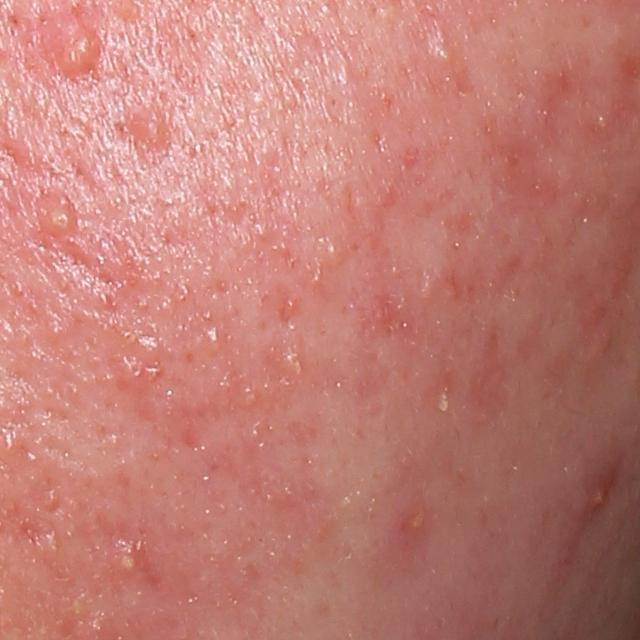comedo: (134, 109, 169, 151), (318, 238, 349, 273), (429, 43, 453, 71)
papule: (51, 26, 105, 83), (30, 192, 86, 238)
pustule: (276, 347, 311, 380), (433, 382, 452, 416)
